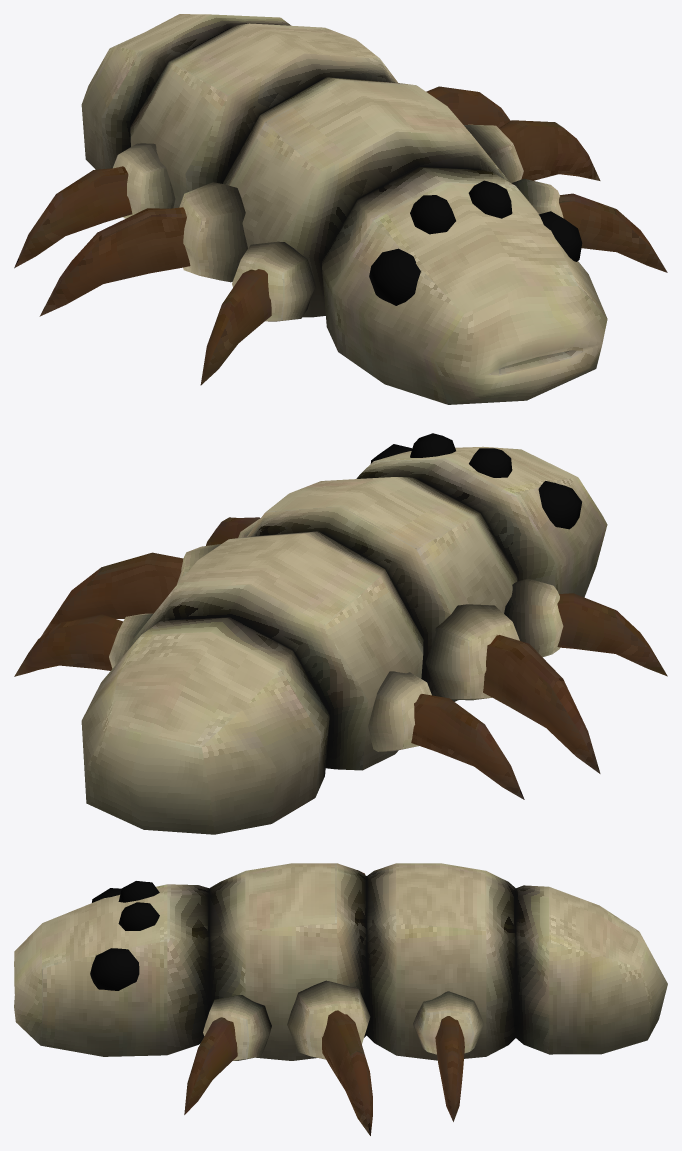
File: Worm.glb
3 renders of one model, top to bottom at view 1: azimuth 30°, elevation 25°; view 2: azimuth 150°, elevation 25°; view 3: azimuth 270°, elevation 25°, orthographic. The views are drawn at different scales.
Parts seen in each view (by area): view 1: Body, MLeg.r, BLeg.r, FLeg.r, MLeg.l, FLeg.l, BLeg.l; view 2: Body, MLeg.r, BLeg.r, FLeg.r, MLeg.l, BLeg.l, FLeg.l; view 3: Body, MLeg.l, FLeg.l, BLeg.l.
Part boxes in pixels (x1,y1,x2,y2): Body: [81, 14, 607, 404]; MLeg.r: [39, 182, 247, 316]; BLeg.r: [14, 143, 175, 268]; FLeg.r: [200, 241, 315, 385]; MLeg.l: [464, 120, 600, 183]; FLeg.l: [511, 178, 667, 272]; BLeg.l: [426, 86, 510, 127]; Body: [81, 433, 607, 834]; MLeg.r: [425, 604, 600, 773]; BLeg.r: [368, 671, 524, 799]; FLeg.r: [504, 578, 667, 676]; MLeg.l: [40, 544, 220, 637]; BLeg.l: [14, 613, 153, 676]; FLeg.l: [206, 517, 260, 545]; Body: [14, 863, 667, 1060]; MLeg.l: [287, 980, 372, 1135]; FLeg.l: [184, 995, 271, 1114]; BLeg.l: [413, 991, 483, 1121].
Bounding box in the file's own units: 3.76 × 1.21 × 4.64.
3 materials, 2 textured.
